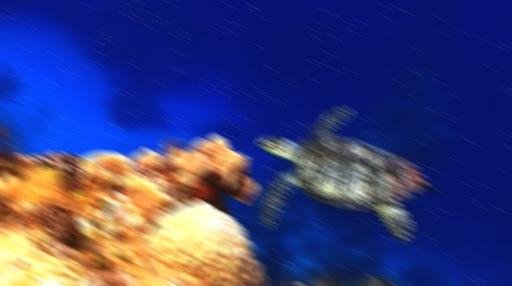Fish: (258, 107, 436, 242)
